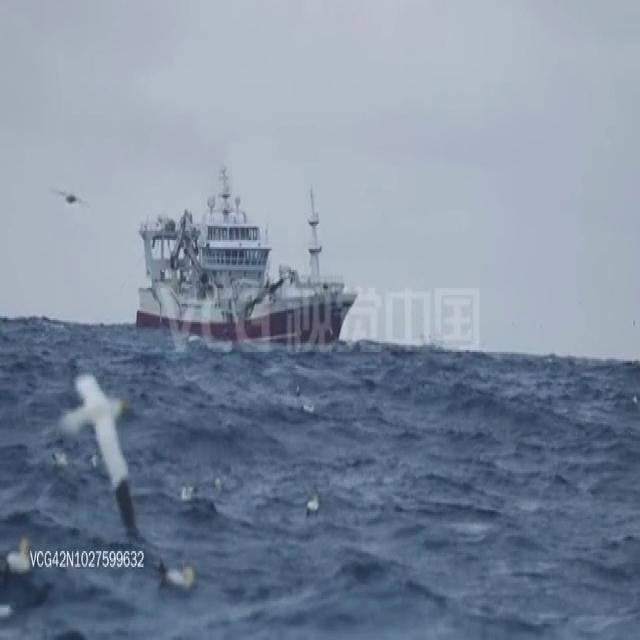passenger ship: (131, 165, 355, 345)
